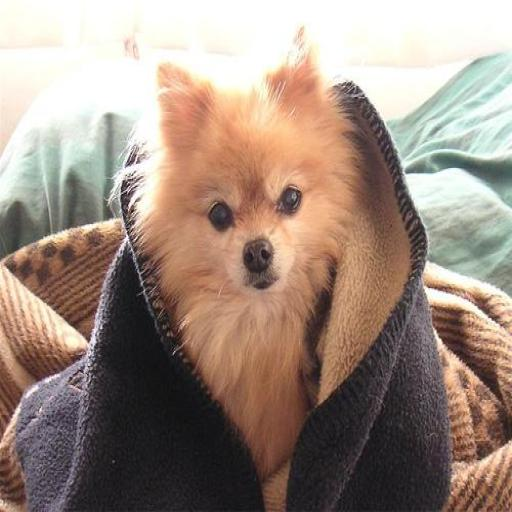dog_face: (147, 58, 340, 300)
